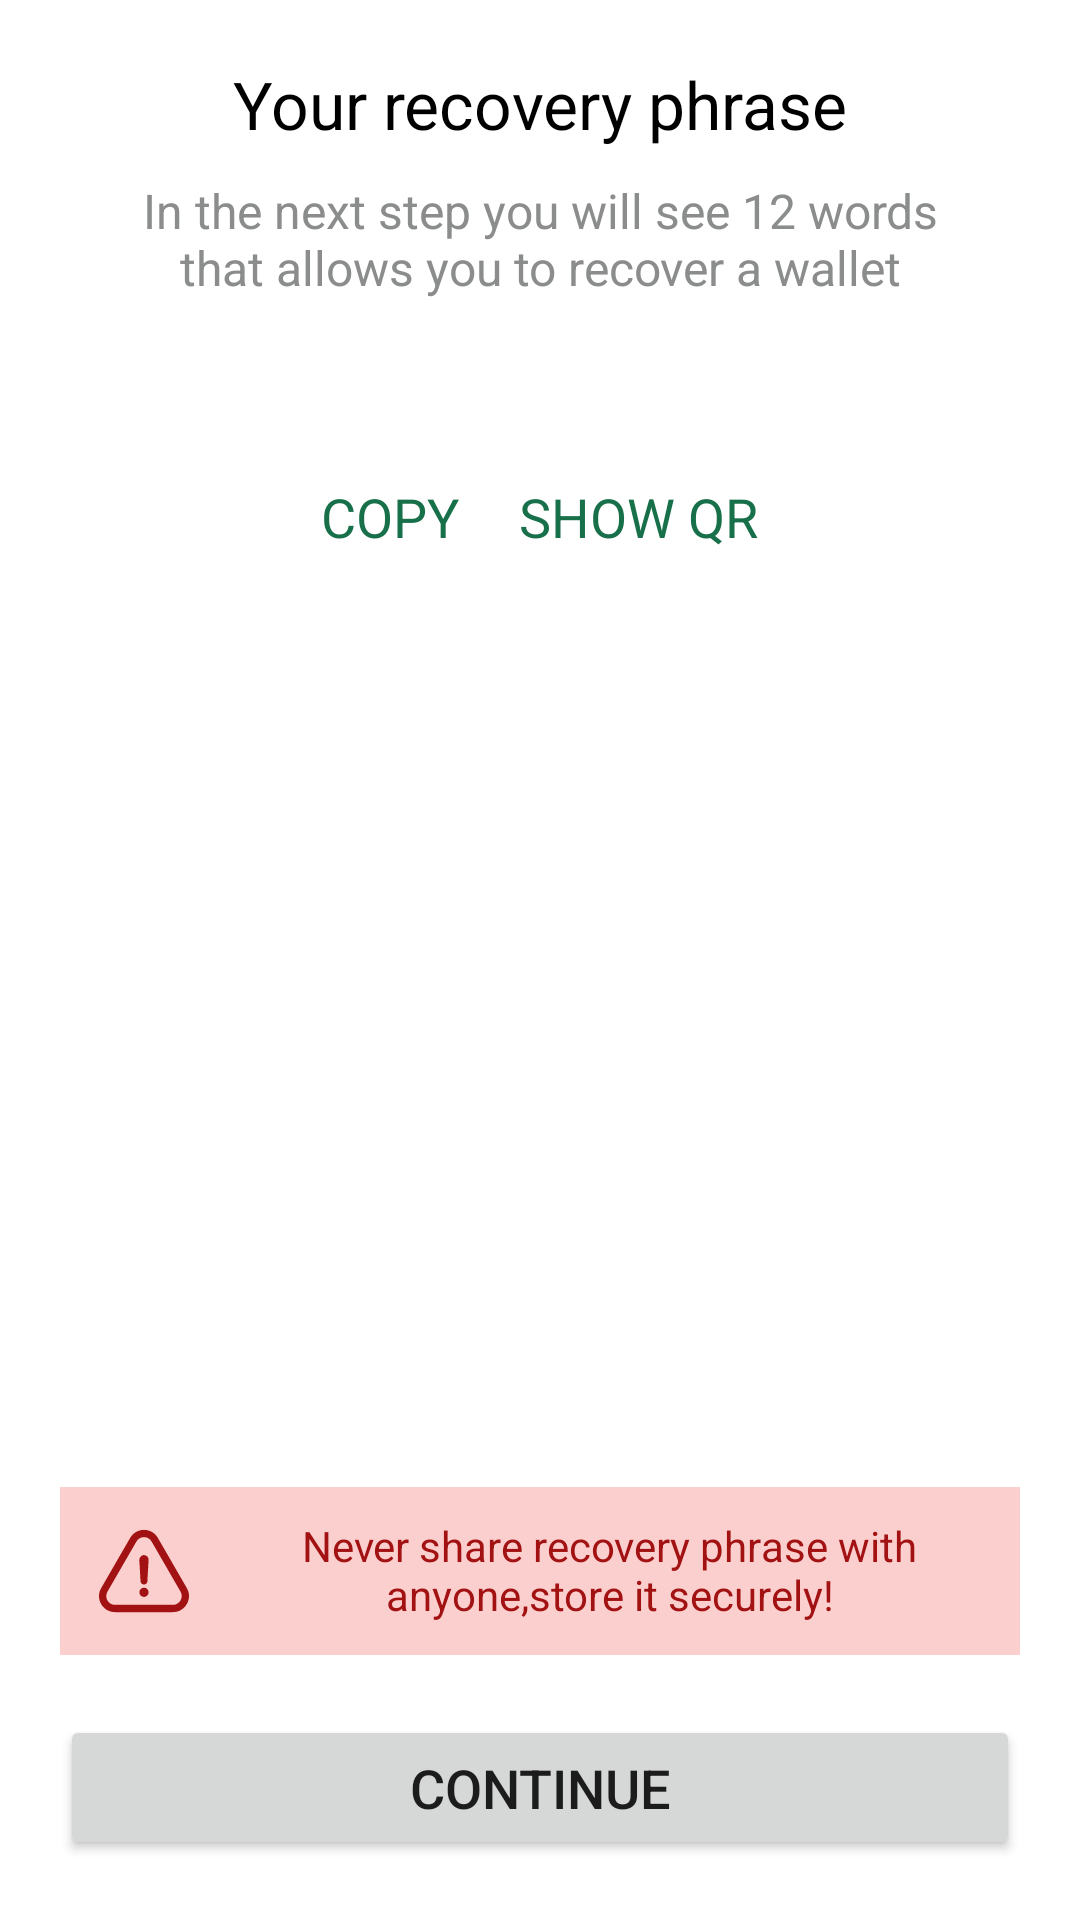

Where icons sit on this 1080 x 1920 app screen, as (x1, y1, x2, y2):
warning: (99, 1530, 189, 1613)
